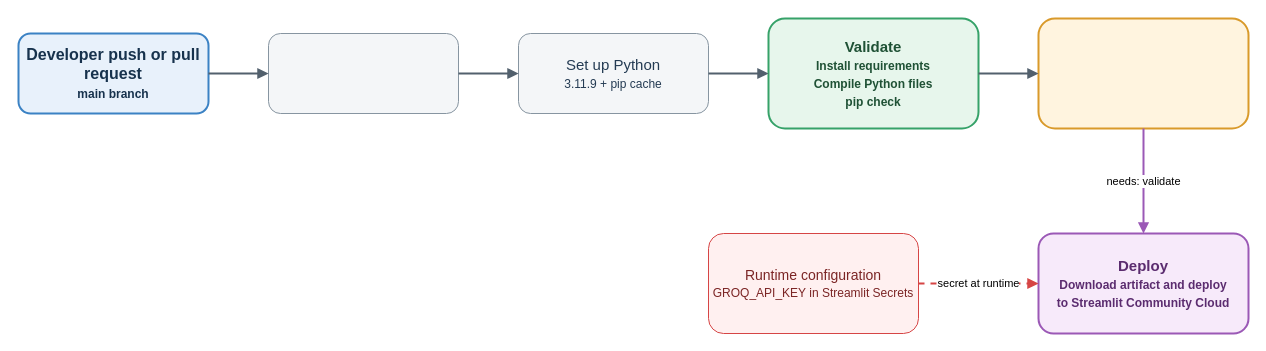
The diagram is 1266 pixels wide and 351 high, and some of its shapes have lost their labels. Each missing label, with the centre of its shape:
"Checkout repository actions/checkout@v4" goes at point (363, 73).
"Package Create lex-orion.tar.gz Upload GitHub artifact" goes at point (1143, 73).
